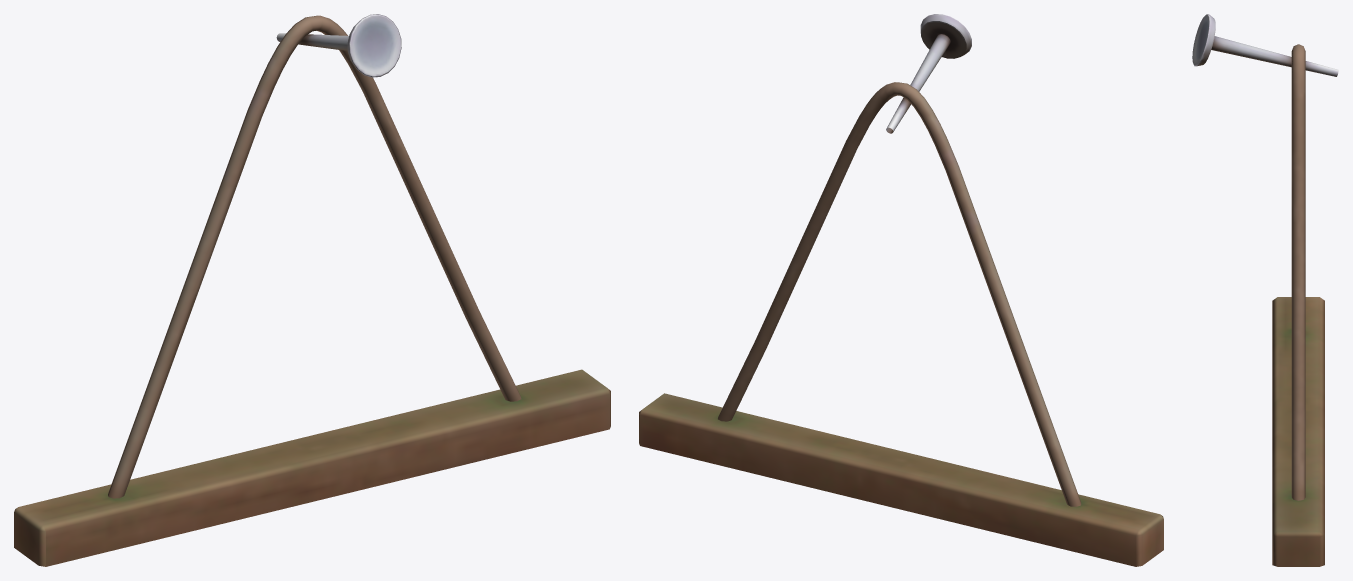
File: SM_Frames_Pin.fbx
3 views of the same model, side by side, from view 1: azimuth 30°, elevation 25°; view 2: azimuth 150°, elevation 25°; view 3: azimuth 270°, elevation 25° (orthographic). The views are drawn at different scales.
Visible parts, largest first — view 1: SM_Frames_Pin_LOD0; view 2: SM_Frames_Pin_LOD0; view 3: SM_Frames_Pin_LOD0.
Boxes of the visible parts, x1,y1,x2,y2 form: SM_Frames_Pin_LOD0: [14, 14, 610, 566]; SM_Frames_Pin_LOD0: [639, 14, 1163, 566]; SM_Frames_Pin_LOD0: [1192, 14, 1338, 566].
Bounding box in the file's own units: 14.99 × 3.89 × 12.74.
1 material, 1 textured.
